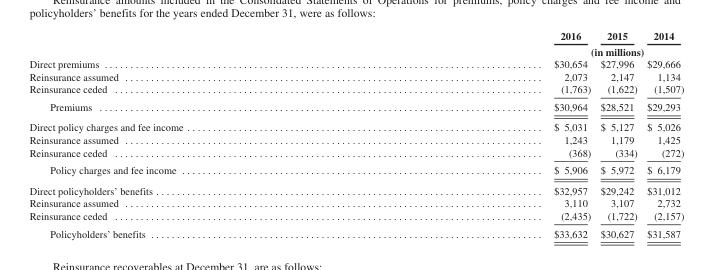table: (28, 29, 683, 238)
table column: (28, 29, 368, 238), (368, 29, 595, 238), (595, 29, 641, 238), (641, 29, 683, 238)
table column header: (28, 29, 683, 57)
table row: (28, 160, 683, 180), (28, 97, 683, 116), (28, 116, 683, 133), (28, 180, 683, 196), (28, 82, 683, 97), (28, 145, 683, 160), (28, 209, 683, 224), (28, 29, 683, 43), (28, 43, 683, 57), (28, 224, 683, 238), (28, 69, 683, 82), (28, 196, 683, 209), (28, 57, 683, 69), (28, 133, 683, 145)
table spanning cell: (368, 43, 683, 57)
